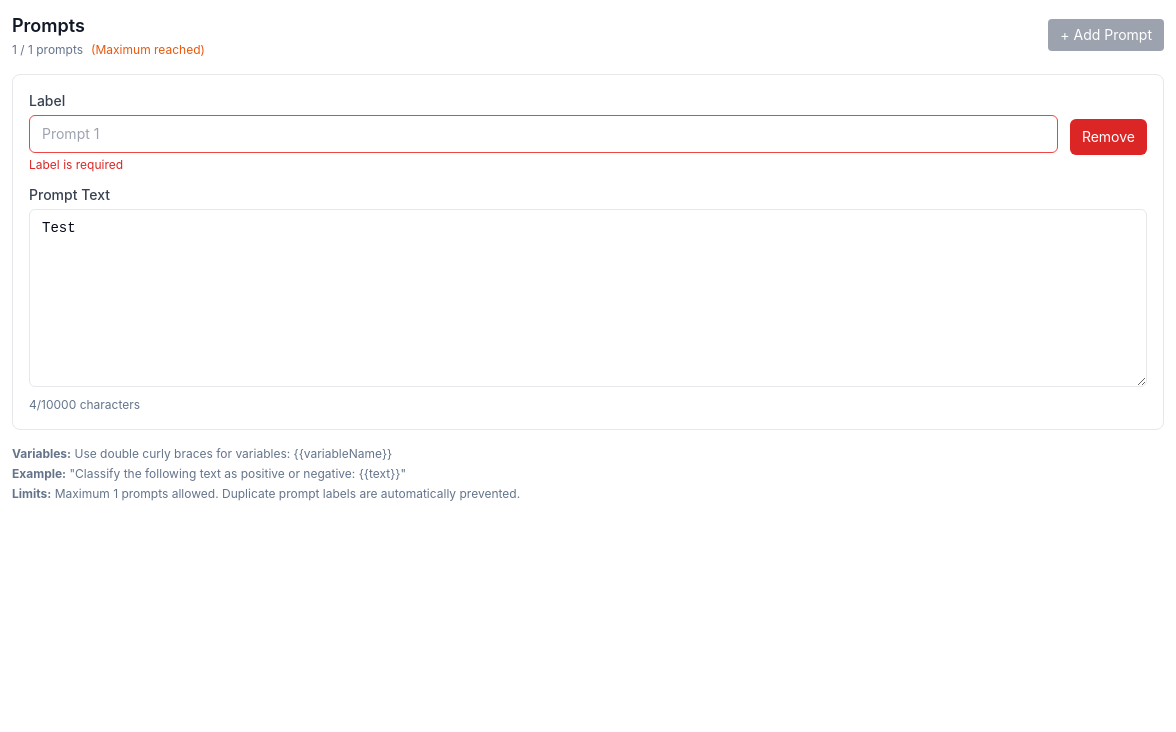
Test: PromptsForm › Validation › should clear validation errors when field becomes valid
The width and height of the screenshot is (1176, 732).
Expected: the text "Label is required" is shown, [29,157,123,172]
Note: Fix the error
Type "Valid Label" into the field with placeholder "Prompt 1" at (543, 134), box [29,115,1058,153]
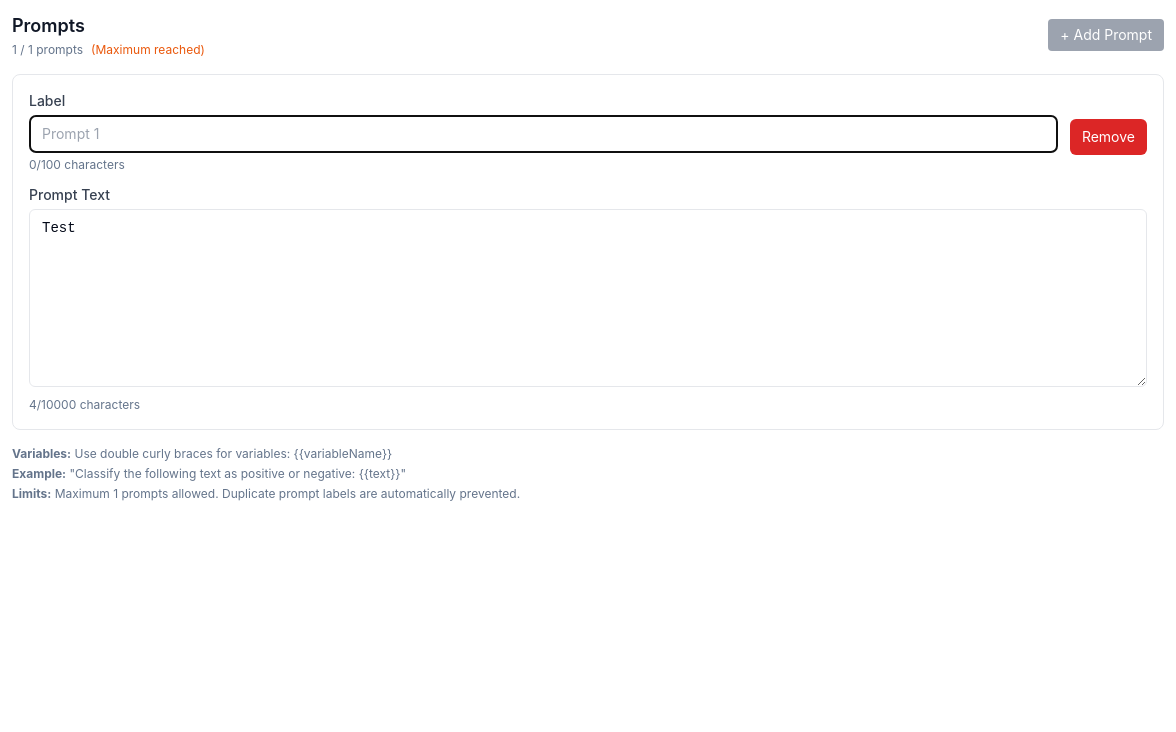
Expected: the text "Label is required" is gone
